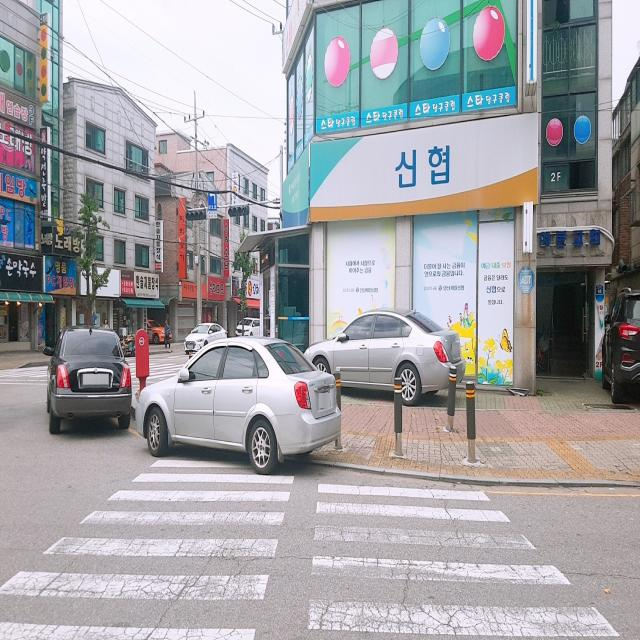횡단보도: (0, 456, 624, 640)
